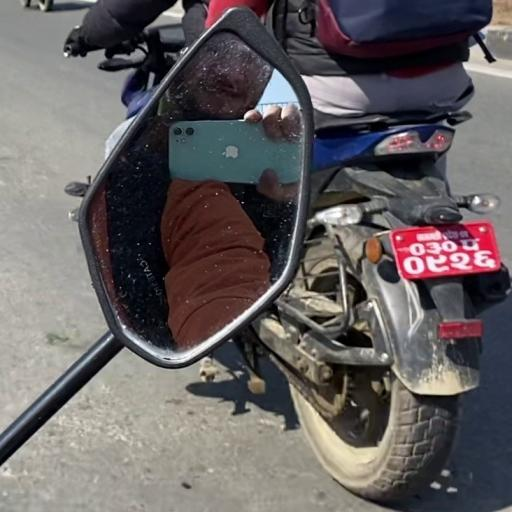license_plate: (385, 216, 508, 288)
